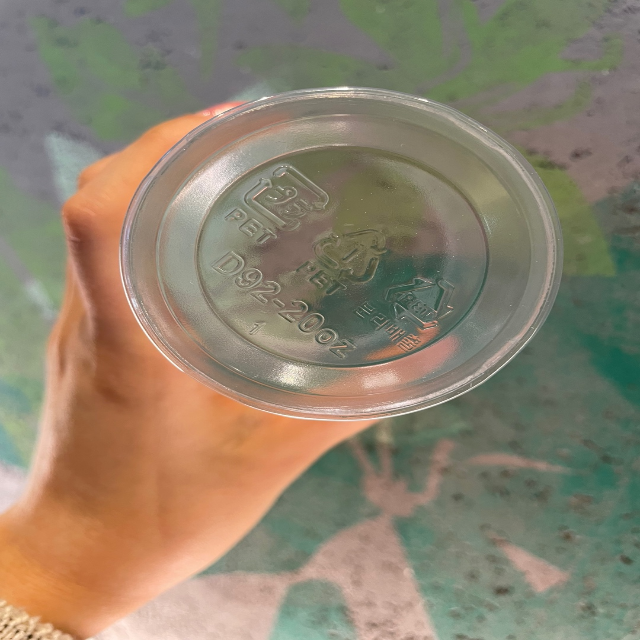pet: (220, 156, 331, 249), (356, 272, 463, 359), (295, 222, 394, 302)
